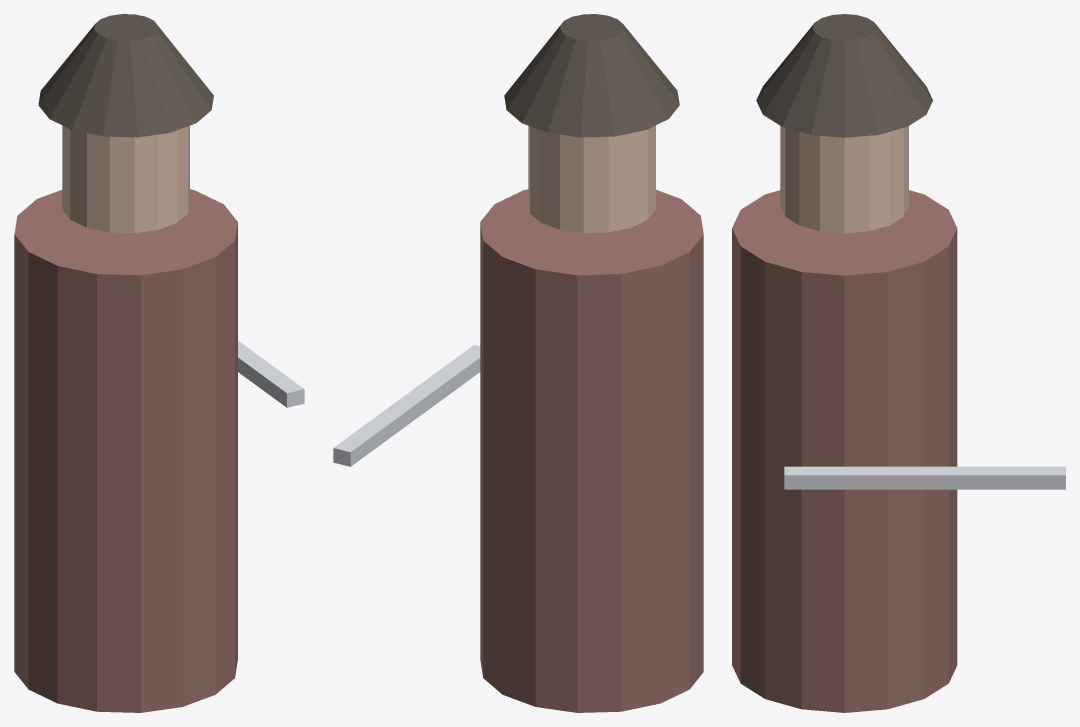
The model's file is enemy_bandit.glb.
3 renders of one model, left to right at view 1: azimuth 30°, elevation 25°; view 2: azimuth 150°, elevation 25°; view 3: azimuth 270°, elevation 25°, orthographic.
Parts seen in each view (by area): view 1: enemy_bandit; view 2: enemy_bandit; view 3: enemy_bandit.
Part boxes in pixels (box(x1,y1,x2,y2)): enemy_bandit: box(14, 14, 304, 712); enemy_bandit: box(333, 14, 703, 712); enemy_bandit: box(732, 14, 1065, 712).
Bounding box in the file's own units: 0.705 × 1.75 × 0.83.
